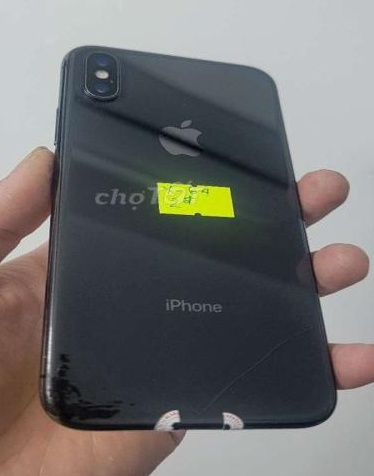physical_damage: (166, 303, 335, 432)
scratch: (46, 345, 103, 441)
